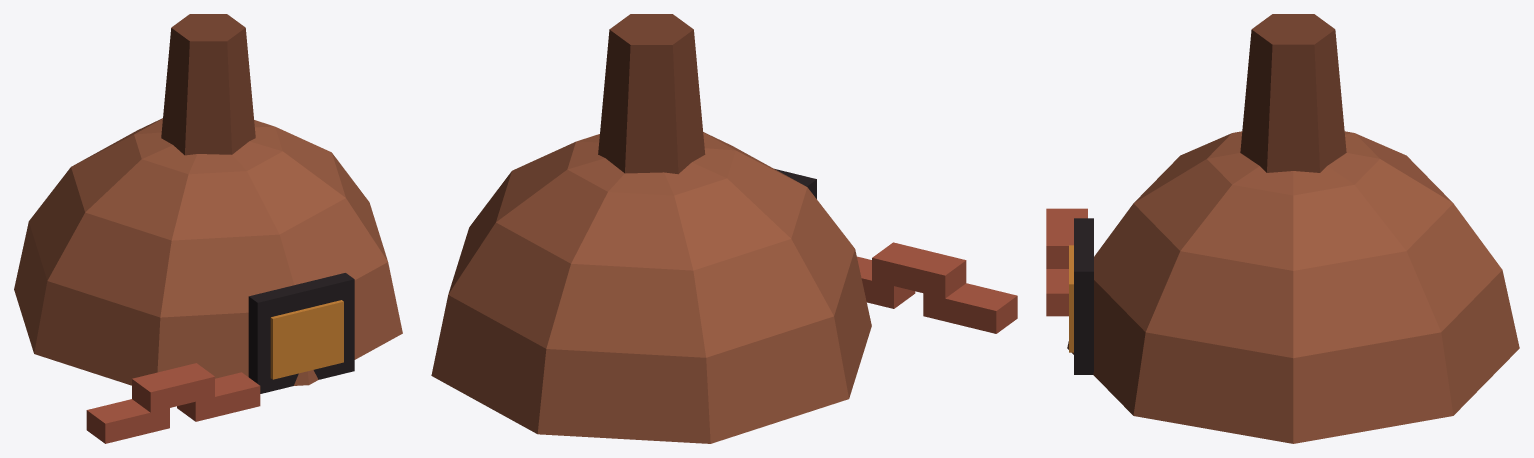
Rendered from kiln.glb.
3 views of the same model, side by side, from view 1: azimuth 30°, elevation 25°; view 2: azimuth 150°, elevation 25°; view 3: azimuth 270°, elevation 25° (orthographic). The views are drawn at different scales.
Parts seen in each view (by area): view 1: kiln; view 2: kiln; view 3: kiln.
Part boxes in pixels (left/top/right/bottom): kiln: left=14, top=14, right=402, bottom=443; kiln: left=431, top=14, right=1017, bottom=443; kiln: left=1046, top=14, right=1519, bottom=443.
Size of the model in its own units: 0.3 by 0.21 by 0.2825.
